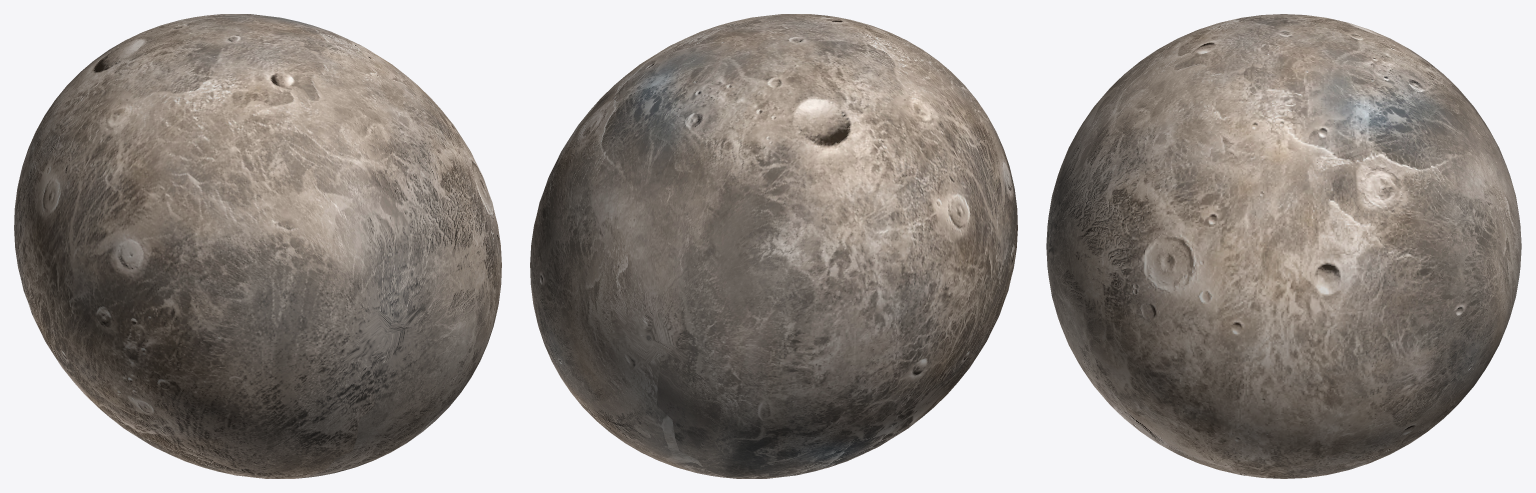
File: Ceres.glb
The picture shows the model from 3 angles, left to right: view 1: azimuth 30°, elevation 25°; view 2: azimuth 150°, elevation 25°; view 3: azimuth 270°, elevation 25°; orthographic projection. The views are drawn at different scales.
Parts seen in each view (by area): view 1: Saturn.001; view 2: Saturn.001; view 3: Saturn.001.
Part boxes in pixels (x1=…): Saturn.001: x1=14, y1=14, x2=501, y2=478; Saturn.001: x1=530, y1=14, x2=1017, y2=478; Saturn.001: x1=1046, y1=14, x2=1521, y2=478.
Bounding box in the file's own units: 0.6267 × 0.6091 × 0.6489.
Materials: 1 (1 with a texture image).
